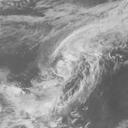cyclone: (37, 14, 106, 90)
